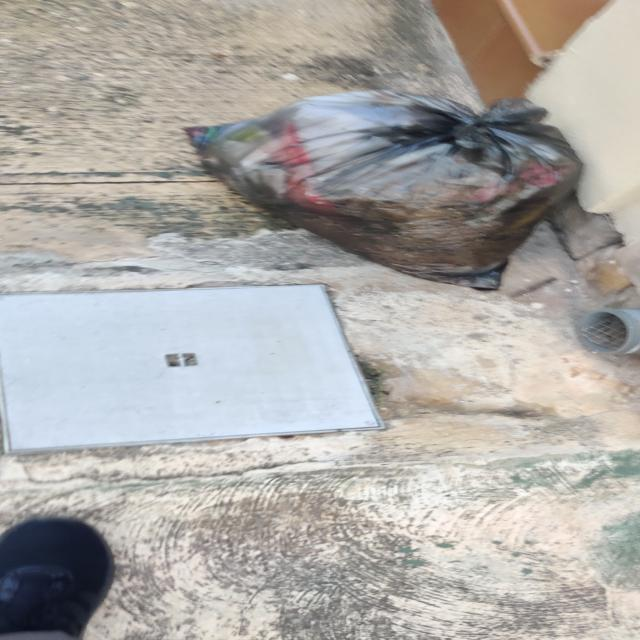Mixed Waste -Black Bags-: (184, 90, 582, 290)
